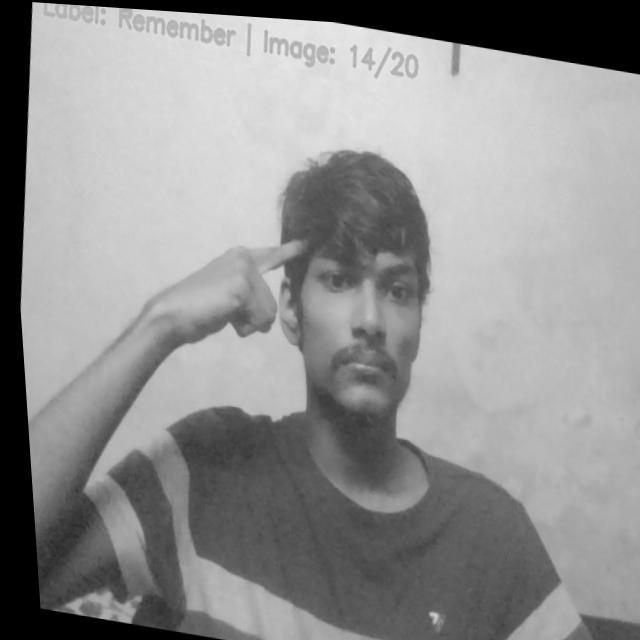Remember: (131, 207, 317, 369)
